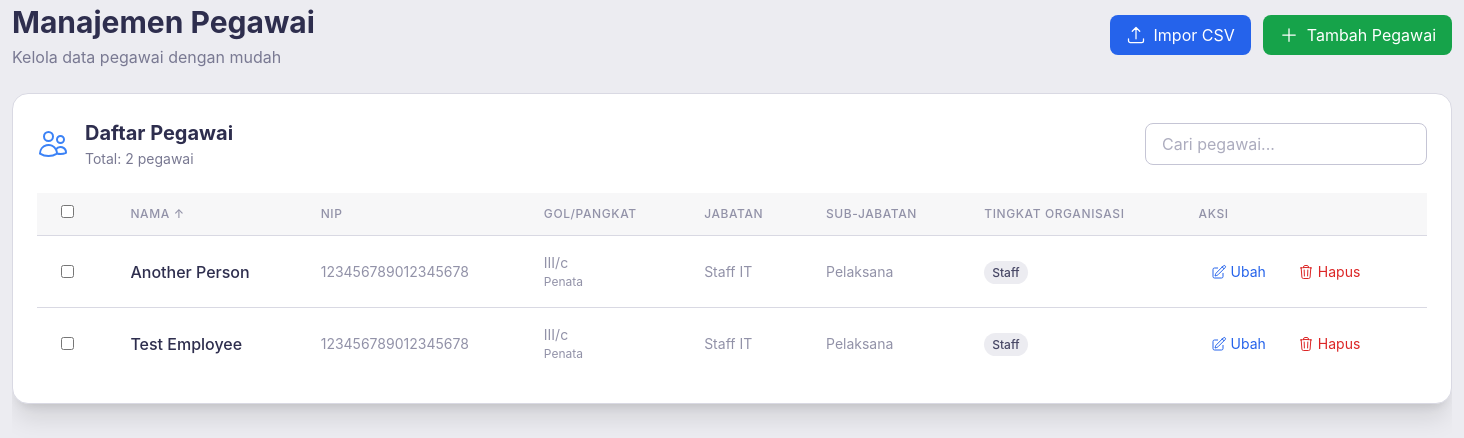
Test case: EmployeeManagement component › filters employees based on the search term
The image size is (1464, 438).
Expected: the text "Test Employee" is shown, x1=130 y1=334 x2=242 y2=354
Expected: the text "Another Person" is shown, x1=130 y1=262 x2=250 y2=282
Type "Another" into the field with placeholder "Cari pegawai...".
click(1286, 144); type("Another")  # box x1=1145 y1=122 x2=1427 y2=164
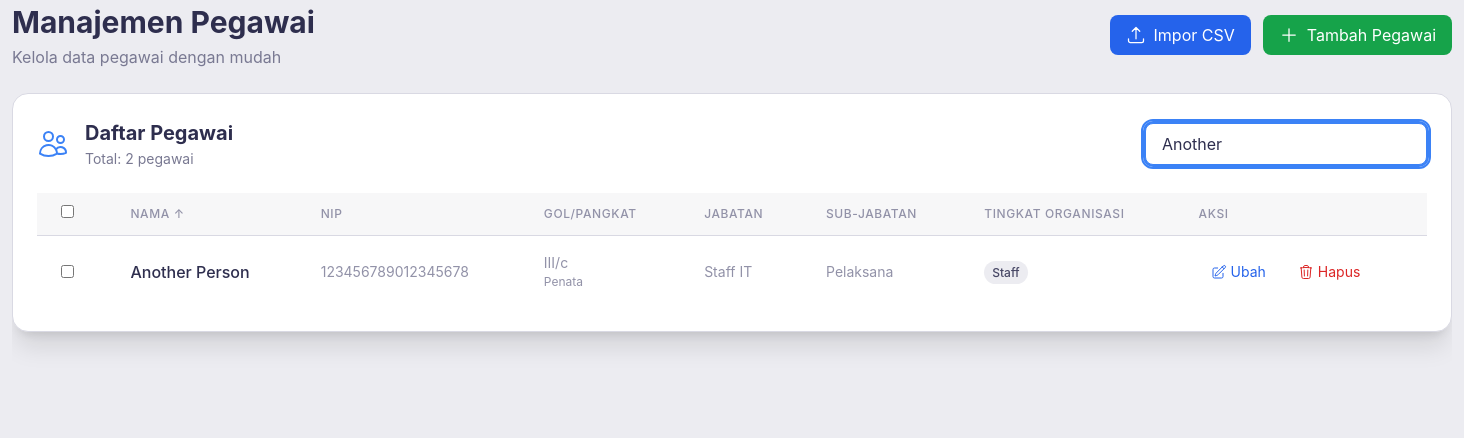
Expected: the text "Another Person" is shown, x1=130 y1=262 x2=250 y2=282
Now the text "Test Employee" is gone
